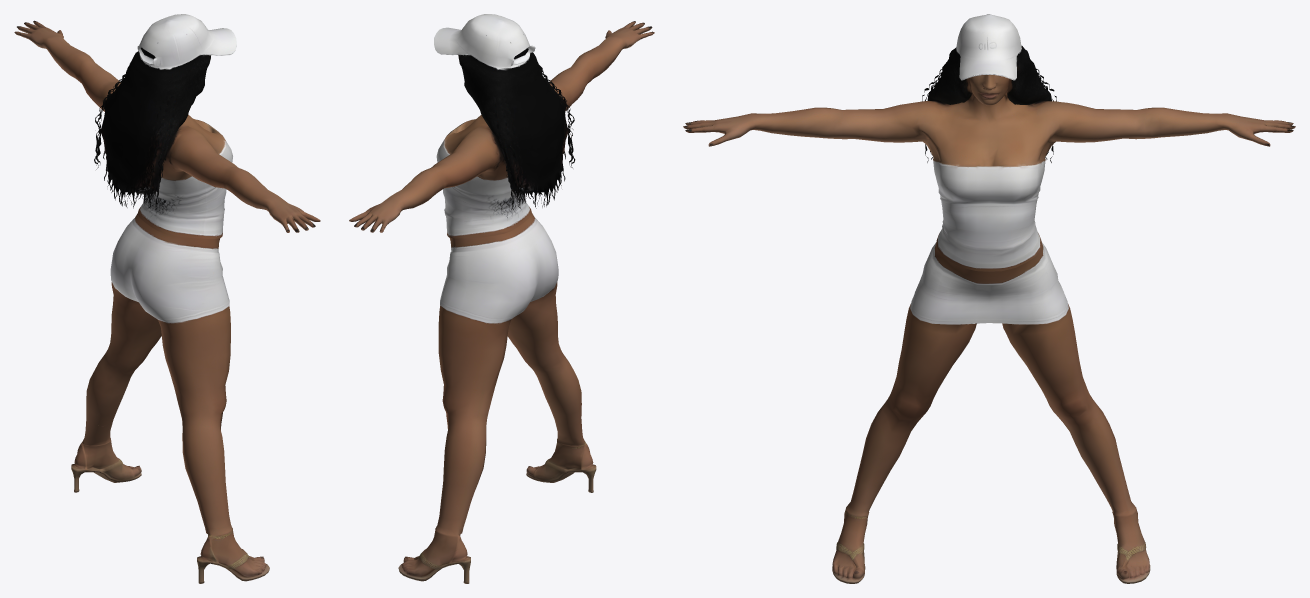
Rendered from femalefigure3dmodel2.glb.
The picture shows the model from 3 angles, left to right: view 1: azimuth 30°, elevation 25°; view 2: azimuth 150°, elevation 25°; view 3: azimuth 270°, elevation 25°; orthographic projection. The views are drawn at different scales.
Parts seen in each view (by area): view 1: tripo_node_5adb8476-b7de-4133-a96d-8926423088d3; view 2: tripo_node_5adb8476-b7de-4133-a96d-8926423088d3; view 3: tripo_node_5adb8476-b7de-4133-a96d-8926423088d3.
Boxes of the visible parts, x1=… form: tripo_node_5adb8476-b7de-4133-a96d-8926423088d3: x1=14, y1=14, x2=320, y2=583; tripo_node_5adb8476-b7de-4133-a96d-8926423088d3: x1=349, y1=14, x2=654, y2=583; tripo_node_5adb8476-b7de-4133-a96d-8926423088d3: x1=683, y1=14, x2=1295, y2=583.
Size of the model in its own units: 0.231 by 0.9946 by 0.9995.
Materials: 1 (1 with a texture image).
